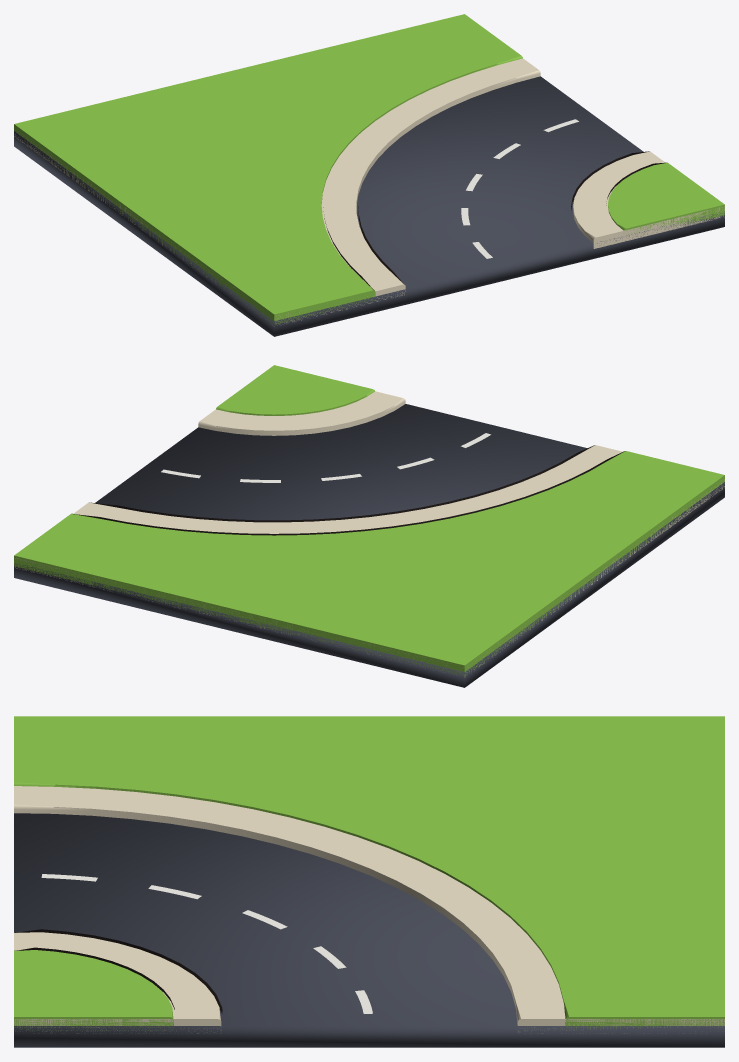
The model's file is Road_Corner.fbx.
The picture shows the model from 3 angles, top to bottom: view 1: azimuth 30°, elevation 25°; view 2: azimuth 150°, elevation 25°; view 3: azimuth 270°, elevation 25°; orthographic projection. The views are drawn at different scales.
Visible parts, largest first — view 1: Tile_Road_Corner_Grass, Tile_Road_Corner_Asphalt, Tile_Road_Corner_Sidewalk, Tile_Road_Corner_Outline, Tile_Road_Corner_LineWhite; view 2: Tile_Road_Corner_Grass, Tile_Road_Corner_Asphalt, Tile_Road_Corner_Sidewalk, Tile_Road_Corner_Outline, Tile_Road_Corner_LineWhite; view 3: Tile_Road_Corner_Grass, Tile_Road_Corner_Asphalt, Tile_Road_Corner_Sidewalk, Tile_Road_Corner_LineWhite, Tile_Road_Corner_Outline.
Boxes of the visible parts, x1,y1,x2,y2 form: Tile_Road_Corner_Grass: [14, 14, 724, 324]; Tile_Road_Corner_Asphalt: [14, 76, 724, 336]; Tile_Road_Corner_Sidewalk: [14, 58, 724, 326]; Tile_Road_Corner_Outline: [323, 151, 665, 290]; Tile_Road_Corner_LineWhite: [461, 119, 578, 258]; Tile_Road_Corner_Grass: [14, 365, 724, 675]; Tile_Road_Corner_Asphalt: [14, 404, 724, 687]; Tile_Road_Corner_Sidewalk: [14, 391, 724, 677]; Tile_Road_Corner_Outline: [73, 445, 623, 535]; Tile_Road_Corner_LineWhite: [161, 433, 490, 482]; Tile_Road_Corner_Grass: [14, 716, 724, 1030]; Tile_Road_Corner_Asphalt: [14, 813, 724, 1047]; Tile_Road_Corner_Sidewalk: [14, 786, 724, 1033]; Tile_Road_Corner_LineWhite: [41, 874, 372, 1013]; Tile_Road_Corner_Outline: [15, 929, 222, 1013].
Size of the model in its own units: 24 by 1.21 by 24.
